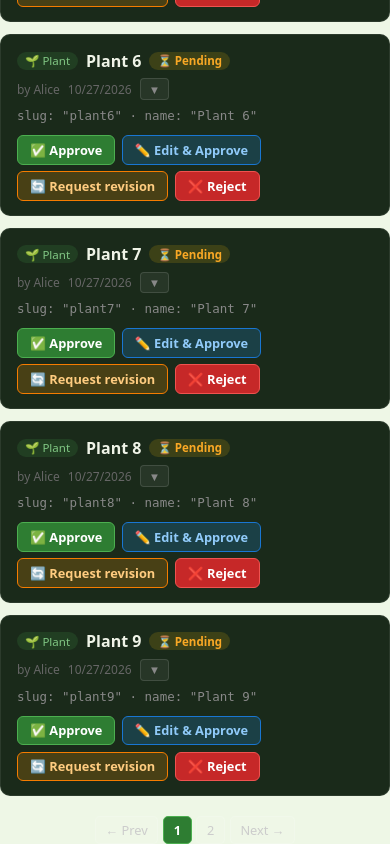
Scenario: ProposalsPanel — pagination › navigates to page 2 on Next click
(page scrolled)
Click the button "Next →" at [262, 830], box left=230, top=816, right=295, bottom=843
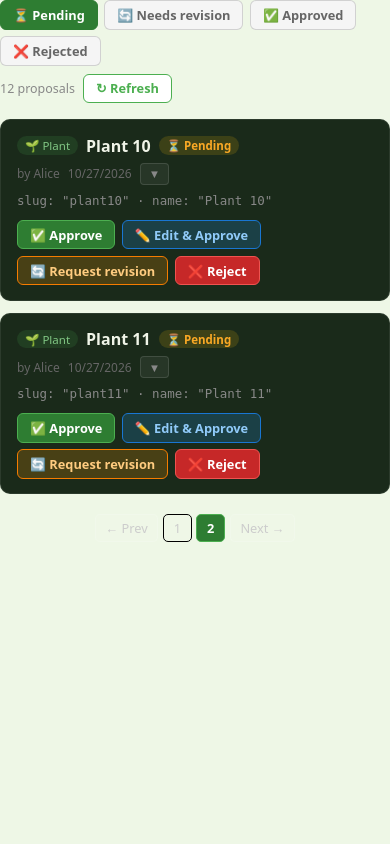
Now the text "Plant 10" is shown, box left=86, top=135, right=151, bottom=157
